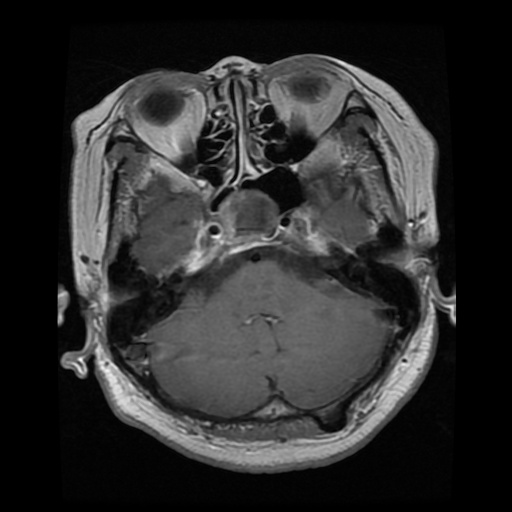pituitary: (220, 191, 279, 237)
